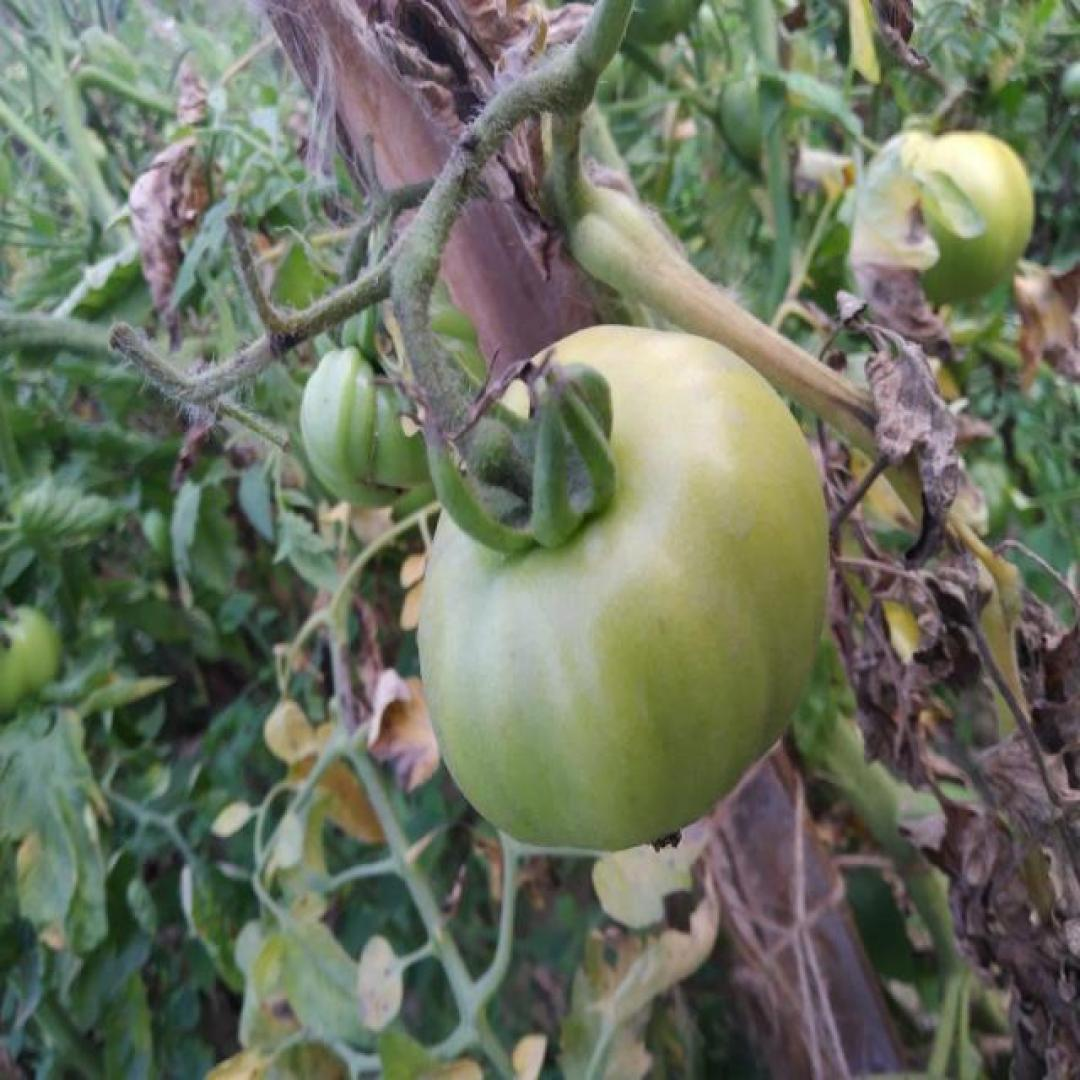mentah: (415, 322, 830, 852)
